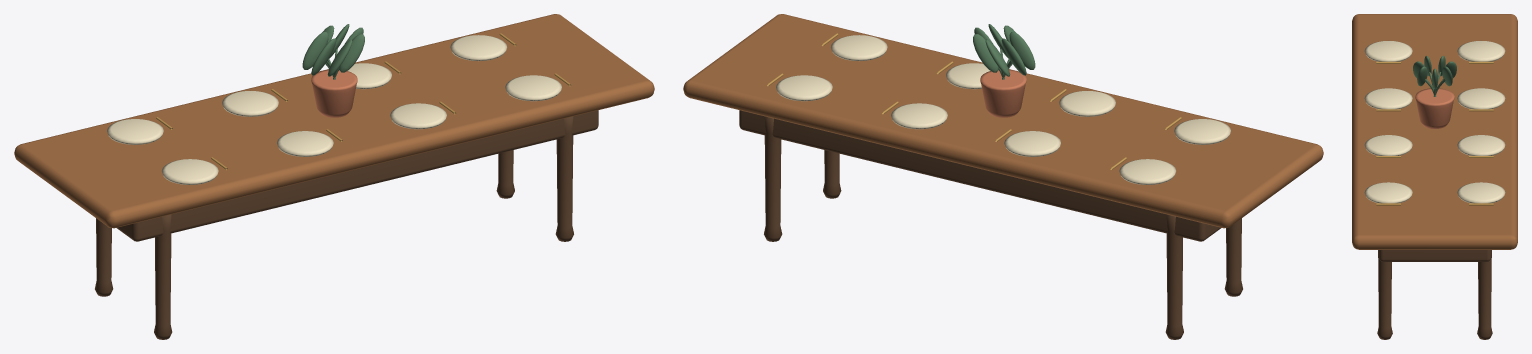
The model's file is dining_set.glb.
3 renders of one model, left to right at view 1: azimuth 30°, elevation 25°; view 2: azimuth 150°, elevation 25°; view 3: azimuth 270°, elevation 25°, orthographic. The views are drawn at different scales.
Visible parts, largest first — view 1: House07_dining_set; view 2: House07_dining_set; view 3: House07_dining_set.
Boxes of the visible parts, x1,y1,x2,y2 form: House07_dining_set: (14,14,654,339); House07_dining_set: (683,14,1323,339); House07_dining_set: (1352,14,1517,339).
Bounding box in the file's own units: 3 × 1.22 × 0.93.
